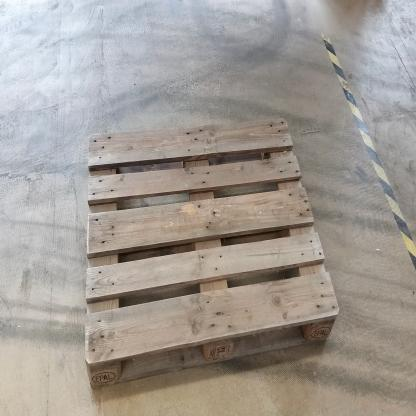BoxFace: (78, 110, 343, 398)
